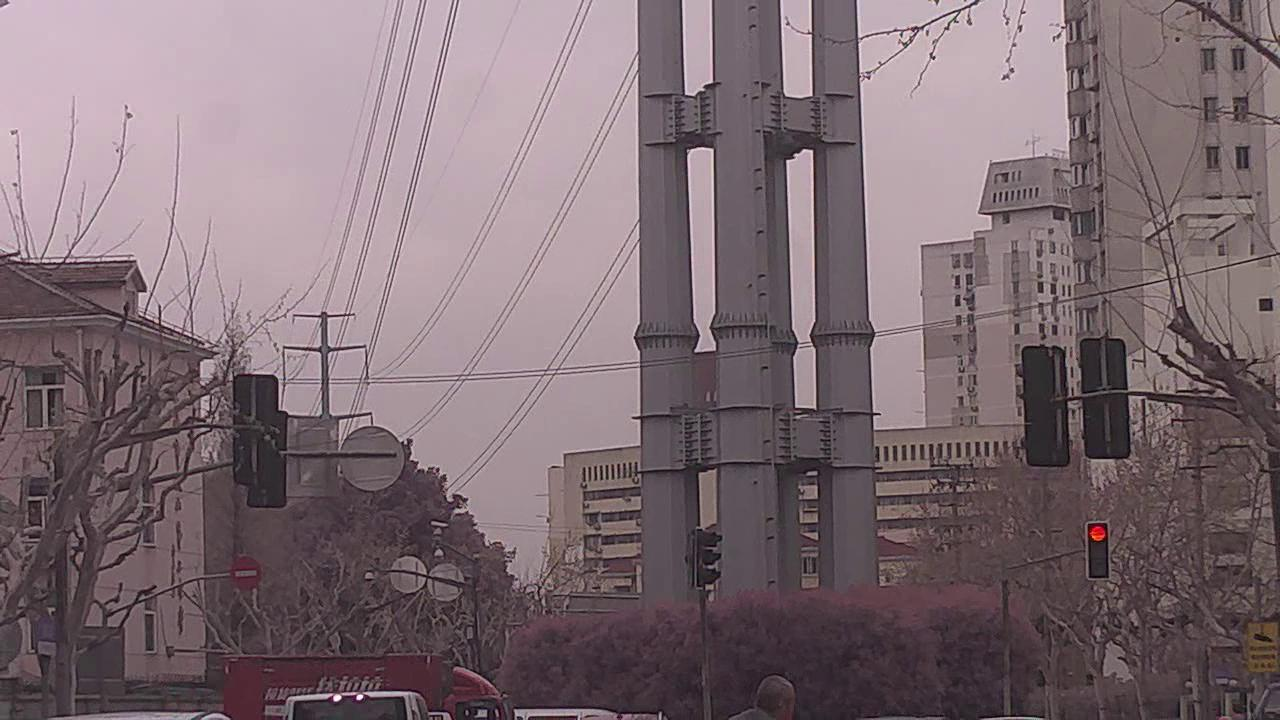traffic_light: (1088, 522, 1111, 580)
